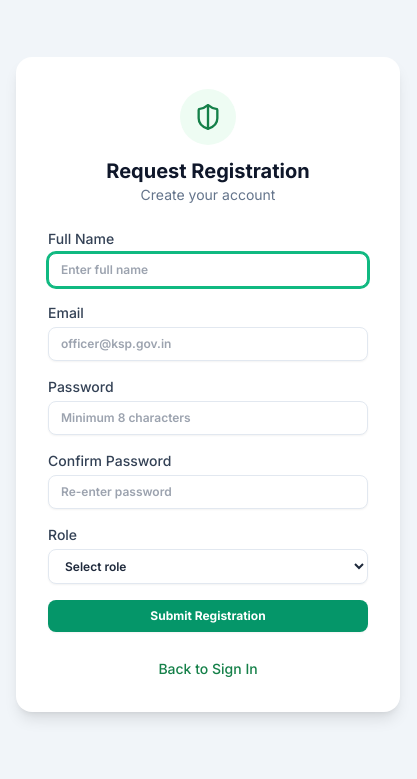
Register Page — /auth/users submission path › shows the success banner after a successful submission
Type "Test User" into the field with placeholder "Enter full name" at {"x": 208, "y": 270}, box [48, 252, 368, 286]
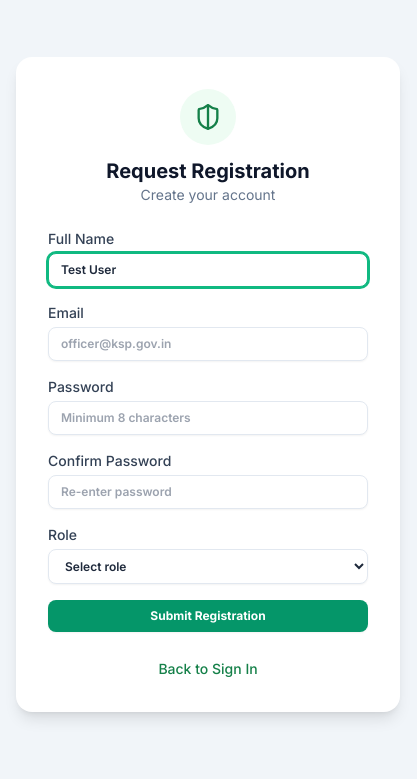
Type "test@ksp.gov.in" into the field with placeholder "officer@ksp.gov.in" at {"x": 208, "y": 344}, box [48, 326, 368, 360]
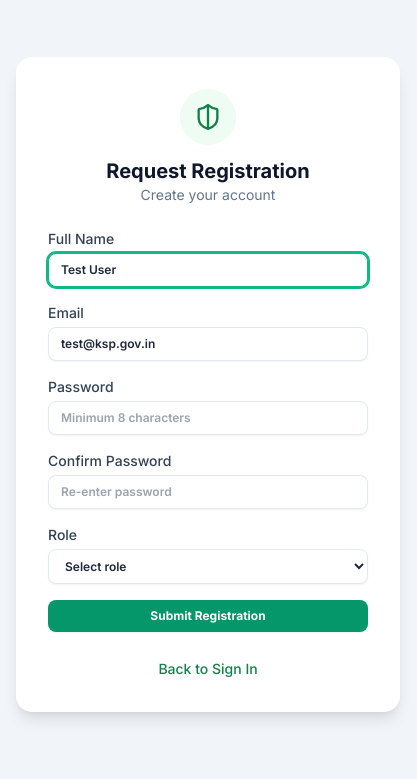
Type "password123" into the password field with placeholder "Minimum 8 characters" at {"x": 208, "y": 418}, box [48, 400, 368, 434]
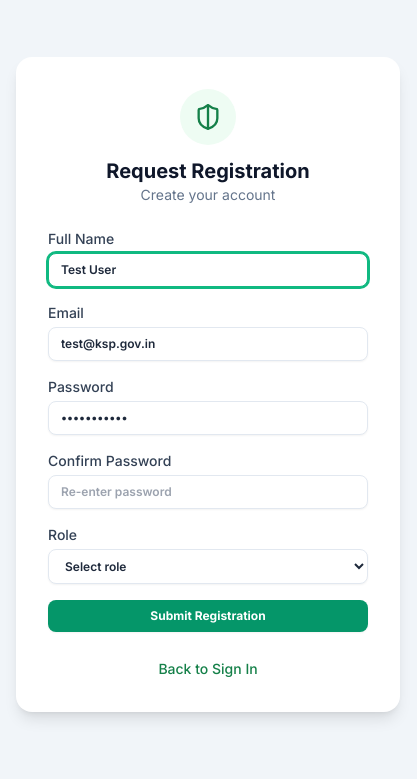
Type "password123" into the password field with placeholder "Re-enter password" at {"x": 208, "y": 492}, box [48, 474, 368, 508]
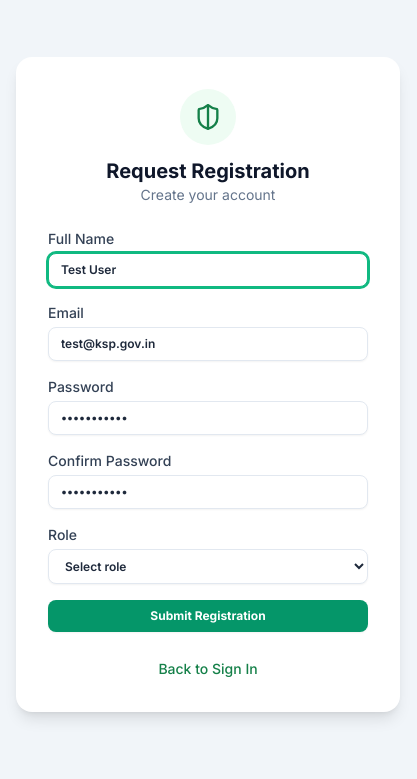
Select "Police Control Center Officer" in the dropdown at {"x": 208, "y": 566}, box [48, 548, 368, 584]
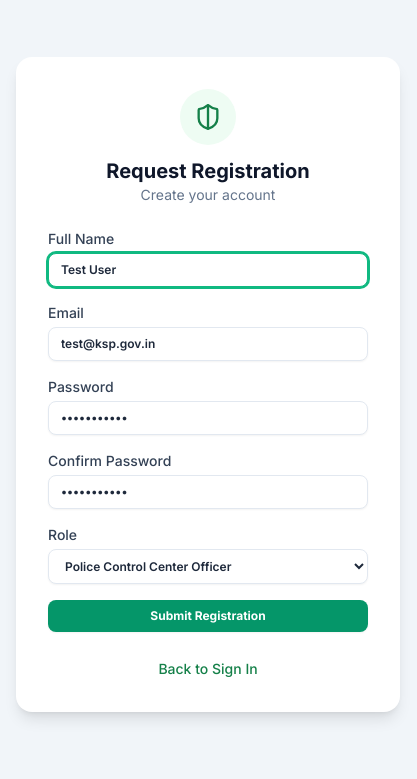
Click the button "Submit Registration" at {"x": 208, "y": 616}, box [48, 600, 368, 632]
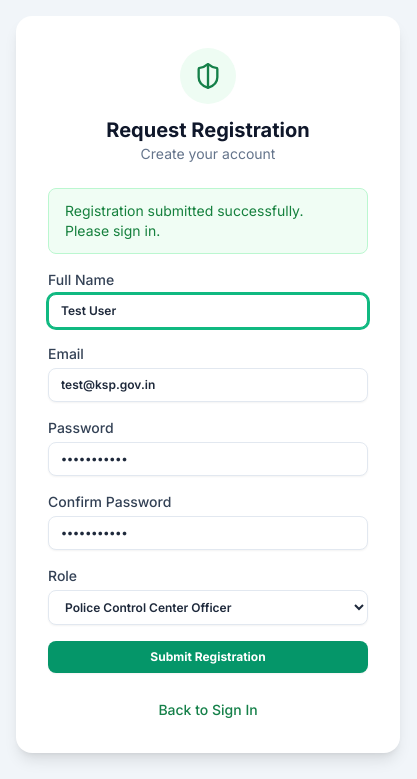
Now the text "Registration submitted successfully. Please sign in." is shown, box [48, 188, 368, 254]
